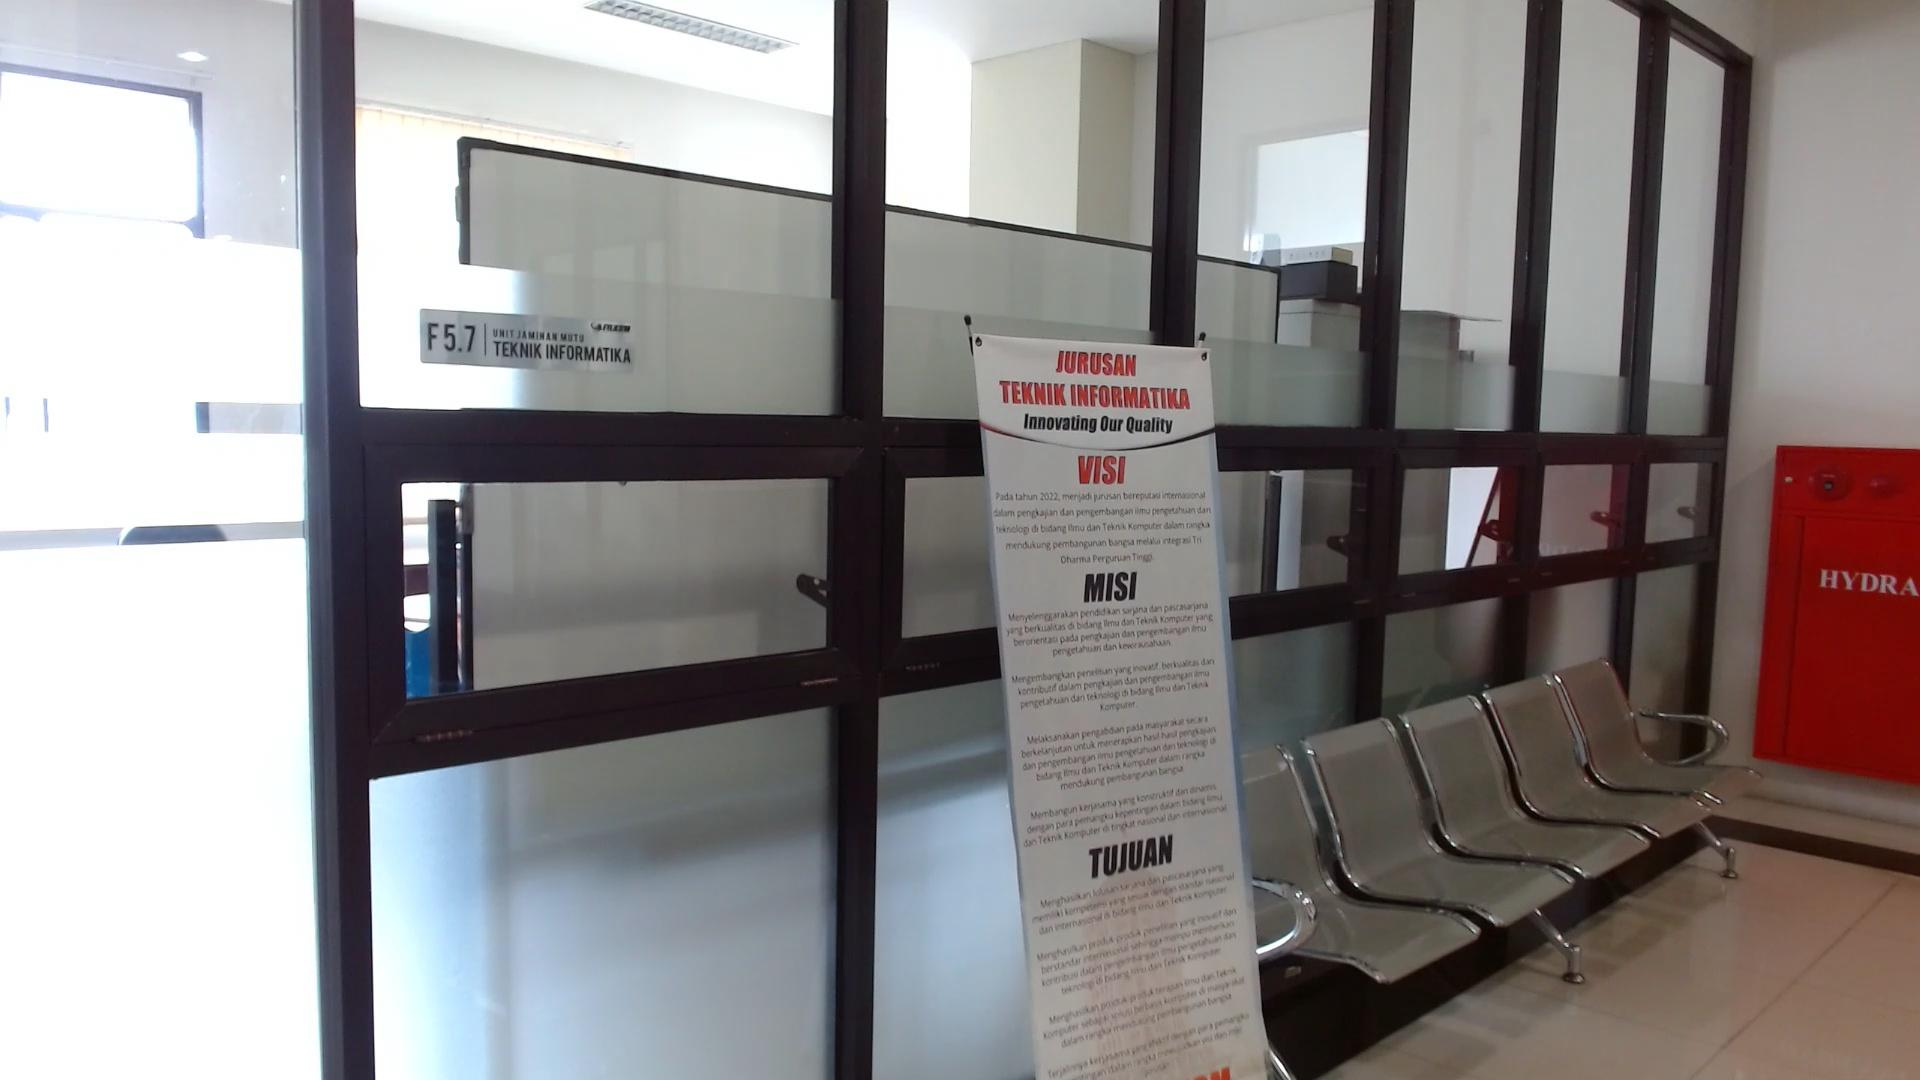plate: (419, 307, 636, 373)
